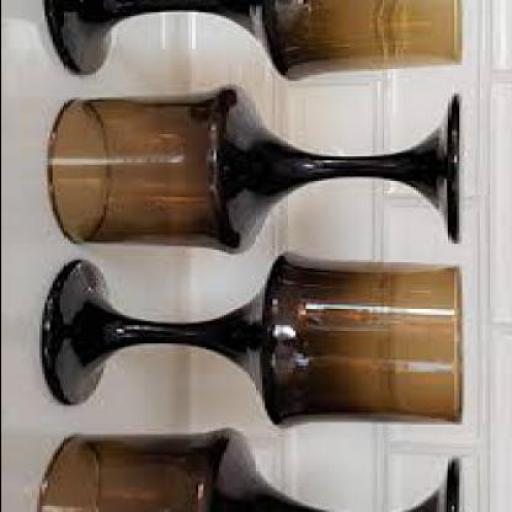glass: (44, 250, 463, 427), (51, 84, 463, 254), (42, 423, 464, 510), (38, 0, 464, 75)
